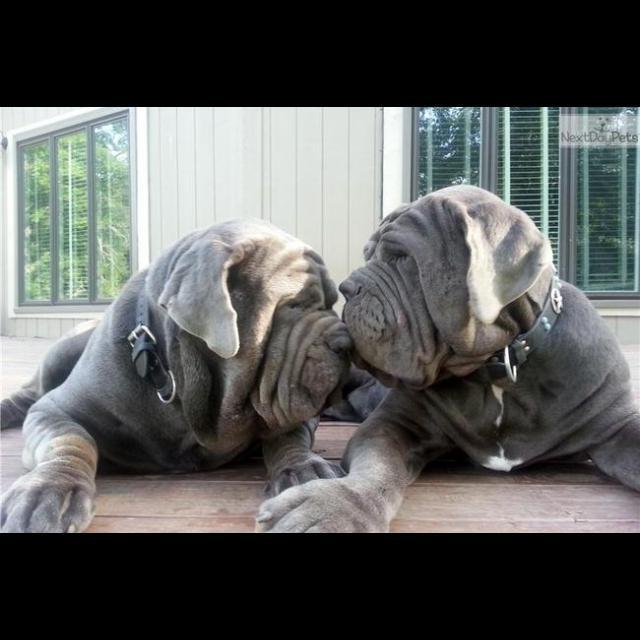mastino_napoletano: (255, 185, 639, 534), (2, 217, 357, 534)
